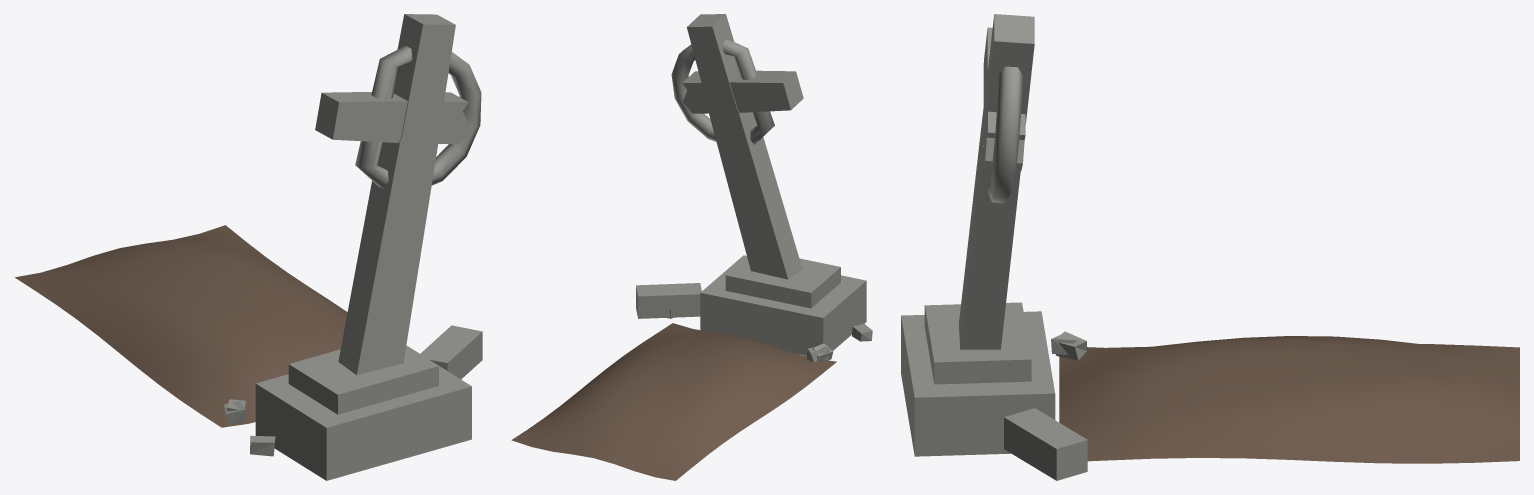
The model's file is gravestone_b.glb.
3 views of the same model, side by side, from view 1: azimuth 30°, elevation 25°; view 2: azimuth 150°, elevation 25°; view 3: azimuth 270°, elevation 25° (orthographic). The views are drawn at different scales.
Parts seen in each view (by area): view 1: gravestone_b; view 2: gravestone_b; view 3: gravestone_b.
Part boxes in pixels (x1=…): gravestone_b: x1=15, y1=14, x2=482, y2=480; gravestone_b: x1=511, y1=14, x2=872, y2=480; gravestone_b: x1=901, y1=14, x2=1519, y2=480.
Size of the model in its own units: 1.27 by 1.77 by 2.28.
